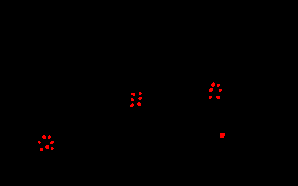Target: (220, 133, 225, 138), (211, 82, 215, 87), (209, 88, 213, 92), (137, 102, 141, 106), (130, 103, 134, 107), (42, 135, 46, 139), (45, 145, 49, 149), (131, 93, 135, 96), (216, 96, 220, 99), (138, 97, 142, 100), (48, 135, 51, 139), (50, 141, 54, 144), (217, 84, 220, 87), (219, 89, 222, 92), (139, 92, 142, 95), (209, 96, 212, 99), (131, 98, 134, 101), (38, 141, 41, 144), (51, 147, 54, 150), (40, 148, 43, 151)
